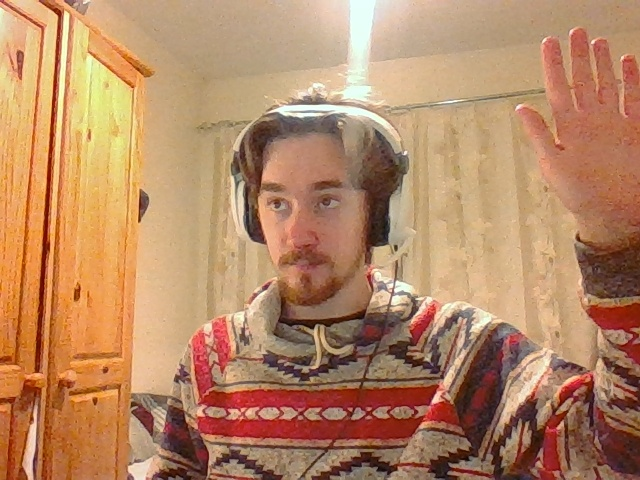hello: (515, 27, 640, 248)
